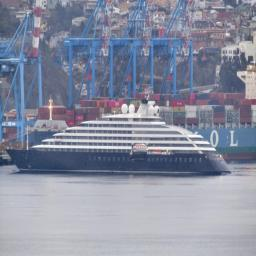cruises: (3, 98, 231, 180)
